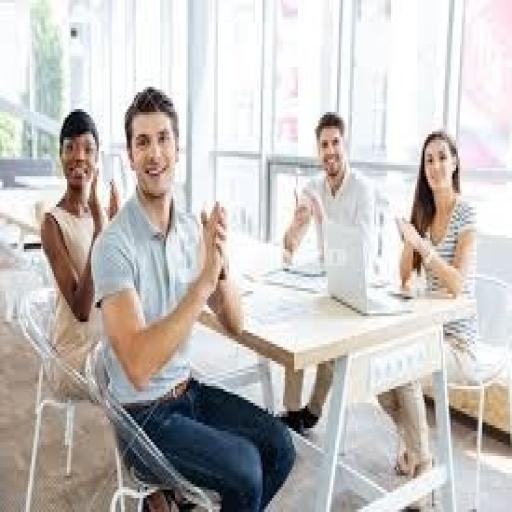clapping: (89, 84, 298, 509), (384, 126, 480, 478), (277, 109, 380, 437), (37, 106, 121, 400)
